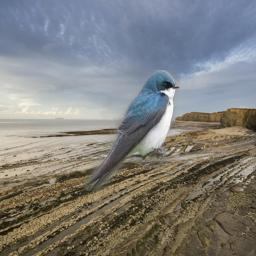Swallow: (84, 70, 180, 191)
